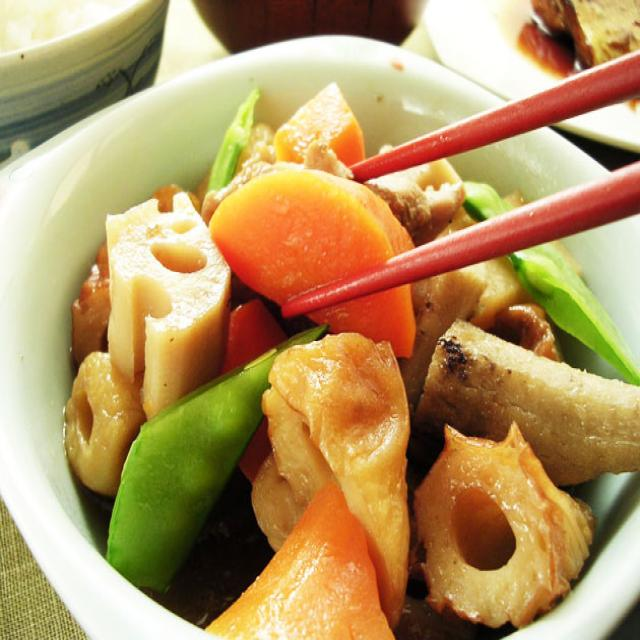鸡肉料理 含炸鸡: (0, 63, 640, 640)
